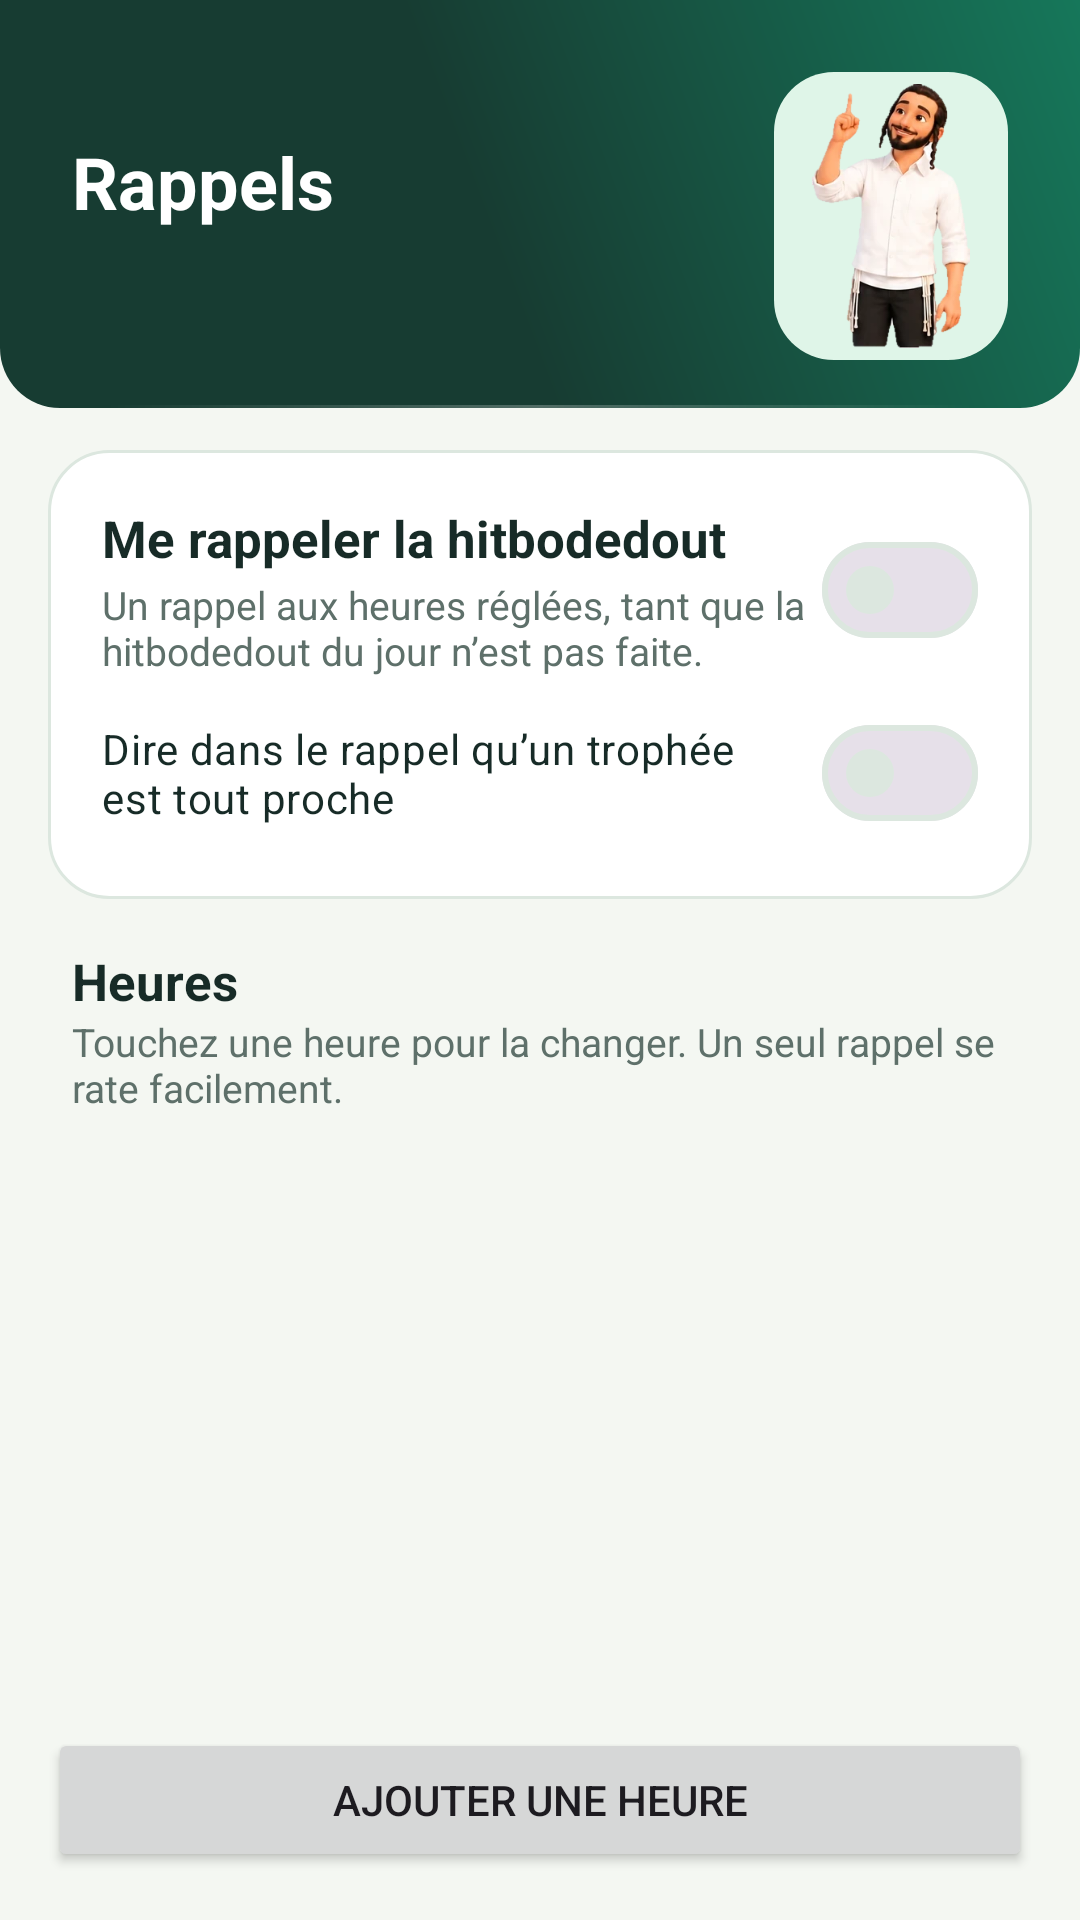

Icons on this 1080×1920 Android screen, each with the point to tap as (x=x, y=y):
char pointing: (x=891, y=216)
